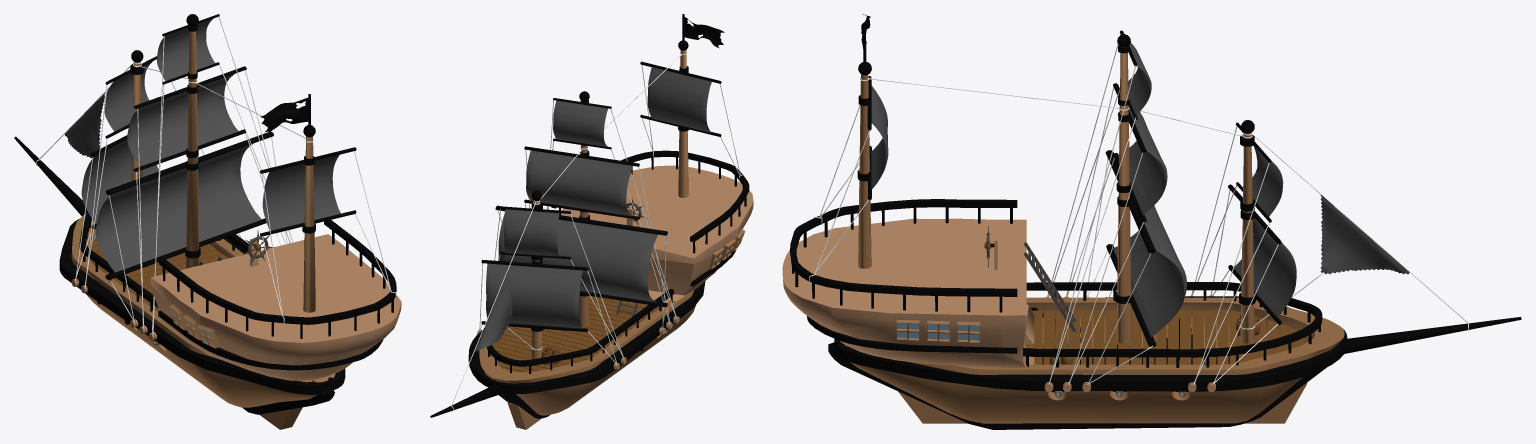
The model's file is pirate ship.fbx.
3 views of the same model, side by side, from view 1: azimuth 30°, elevation 25°; view 2: azimuth 150°, elevation 25°; view 3: azimuth 270°, elevation 25° (orthographic). The views are drawn at different scales.
Visible parts, largest first — view 1: Polygon_Reduction_1; view 2: Polygon_Reduction_1; view 3: Polygon_Reduction_1.
Part boxes in pixels (x1,y1,x2,y2): Polygon_Reduction_1: [14, 14, 401, 429]; Polygon_Reduction_1: [430, 14, 753, 429]; Polygon_Reduction_1: [782, 14, 1521, 429].
Bounding box in the file's own units: 2031 × 3748 × 6319.
